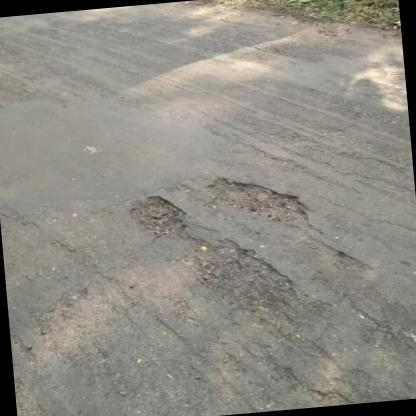pothole: (188, 233, 300, 320), (204, 168, 312, 230), (126, 191, 190, 244)
